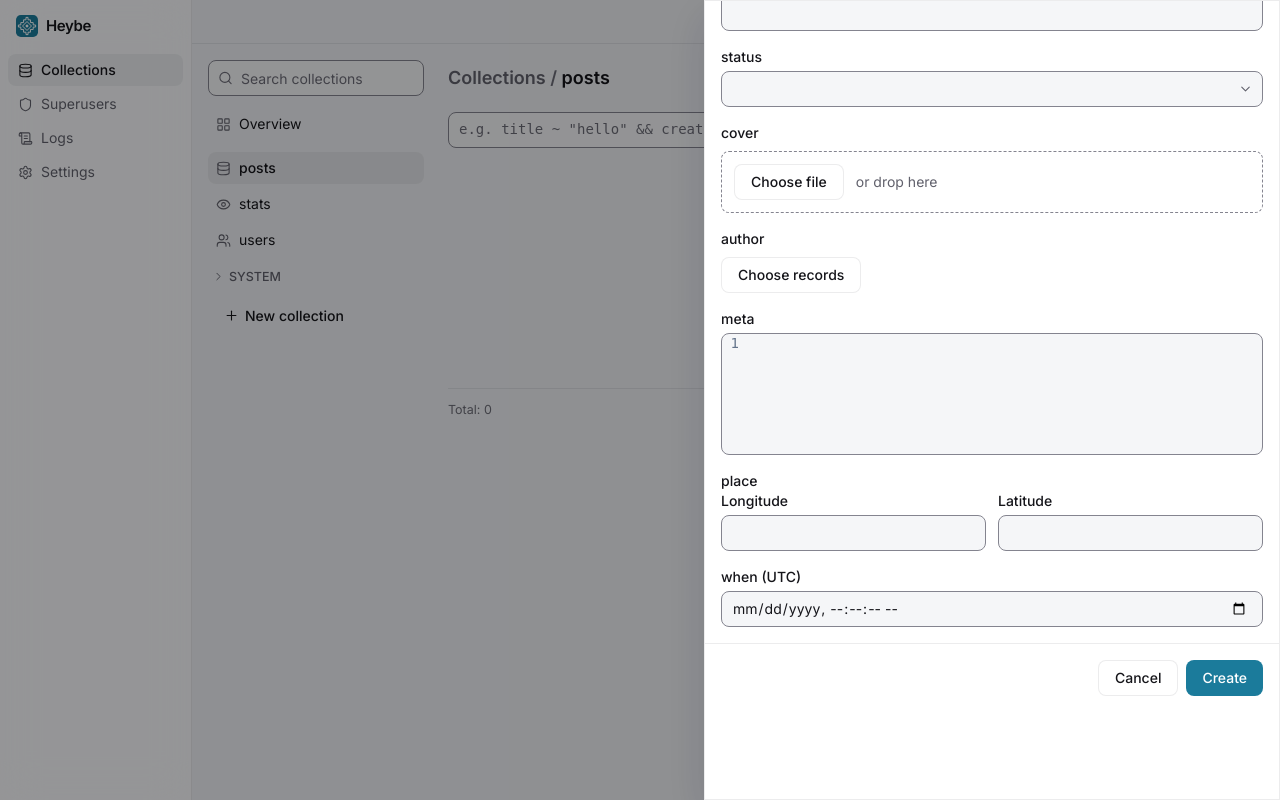
Scenario: geoPoint sends {lon, lat} numbers
(page scrolled)
Check: the dialog "New record" is shown, box [704, 0, 1279, 799]
Type "12.5" into the number field labelled "Longitude" at coordinates (854, 532), box [721, 514, 986, 550]
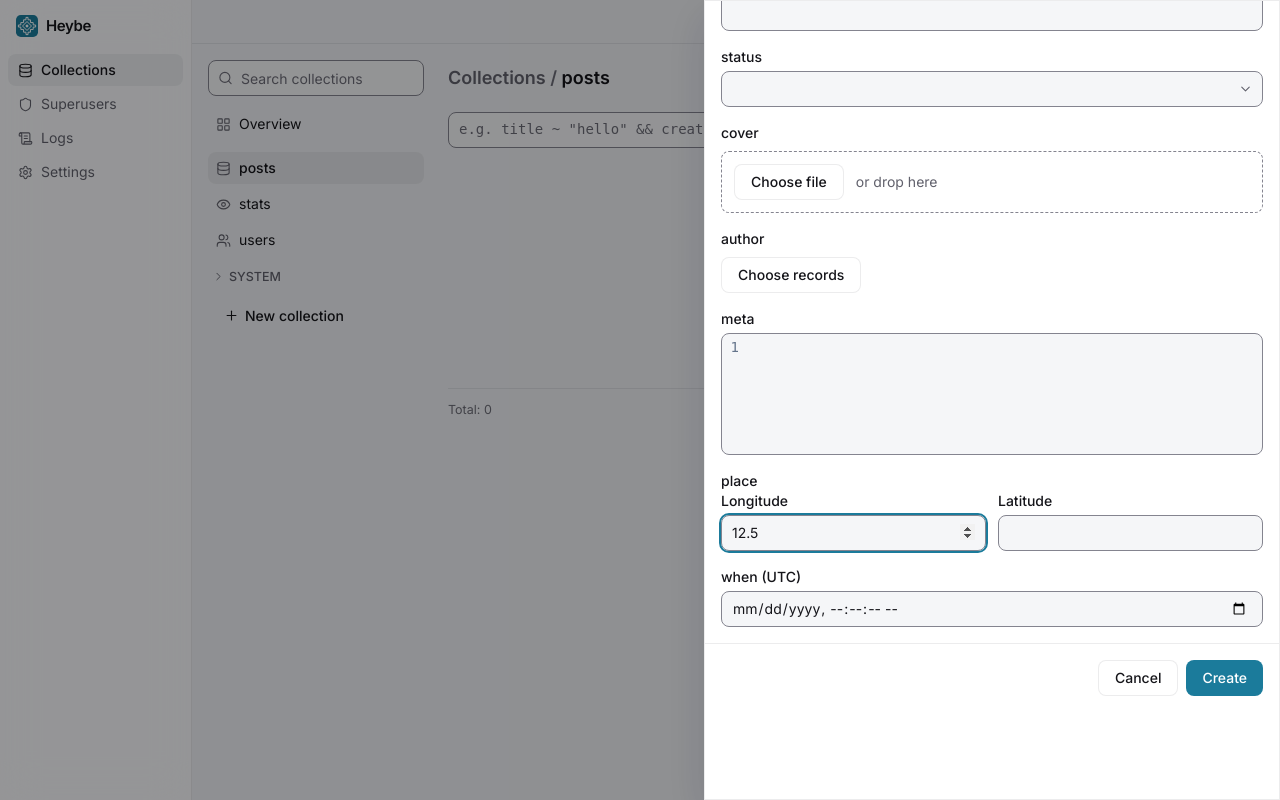
Type "-40" into the number field labelled "Latitude" at coordinates (1130, 532), box [998, 514, 1263, 550]
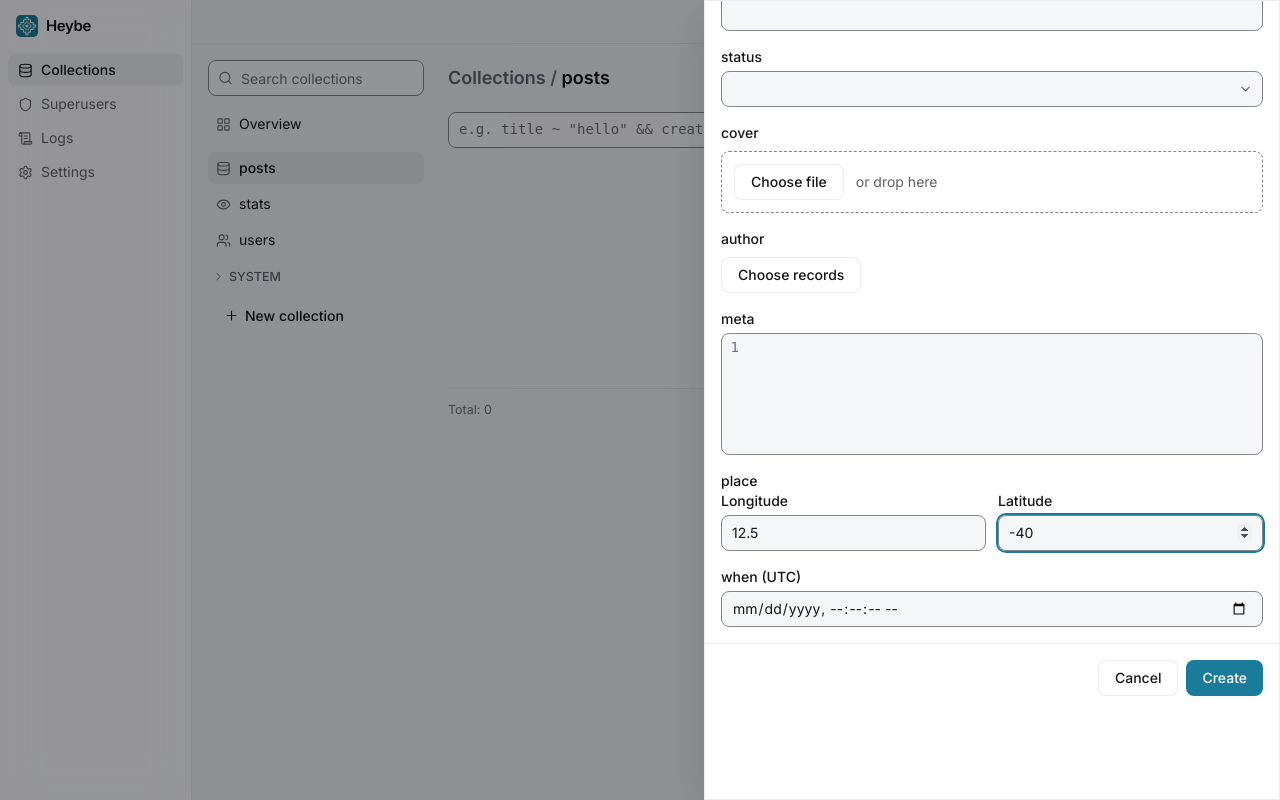
Click the button "Create" at coordinates (1225, 678), box [1186, 660, 1263, 696]
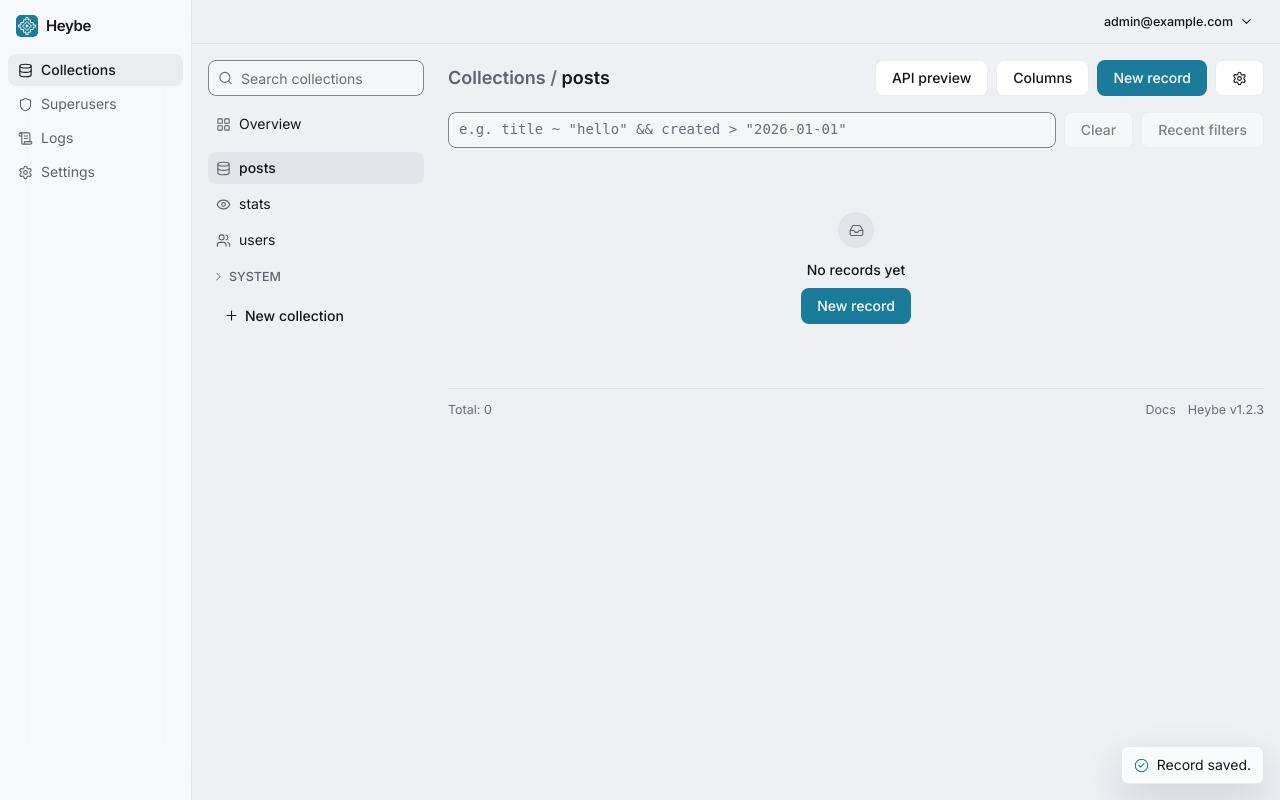
Check: the text "Record saved." is shown, box [1121, 746, 1264, 784]
